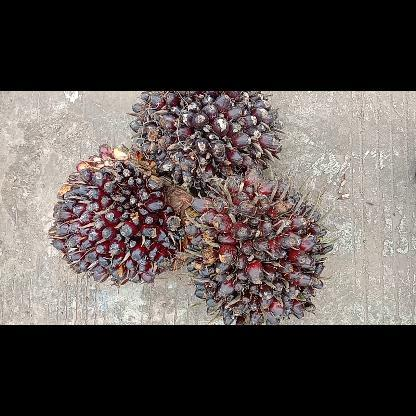TBS mentah: (182, 166, 338, 324), (44, 144, 200, 288), (127, 90, 284, 192)
